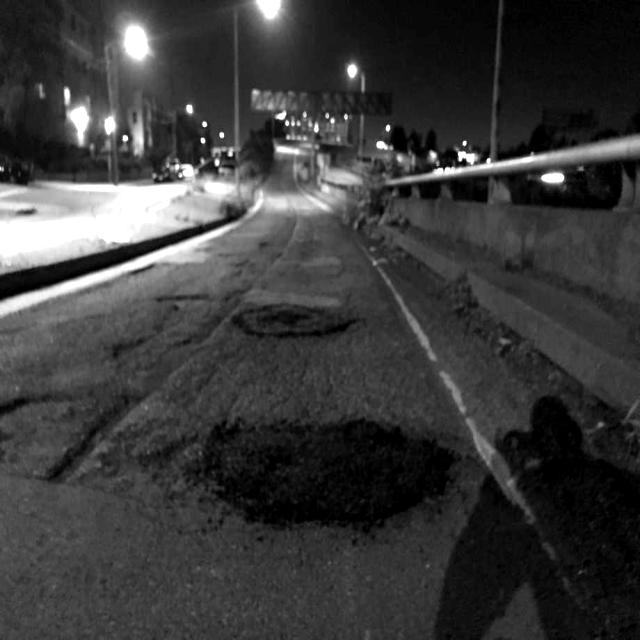pathole: (186, 405, 453, 573), (0, 366, 140, 557), (160, 265, 375, 370)
